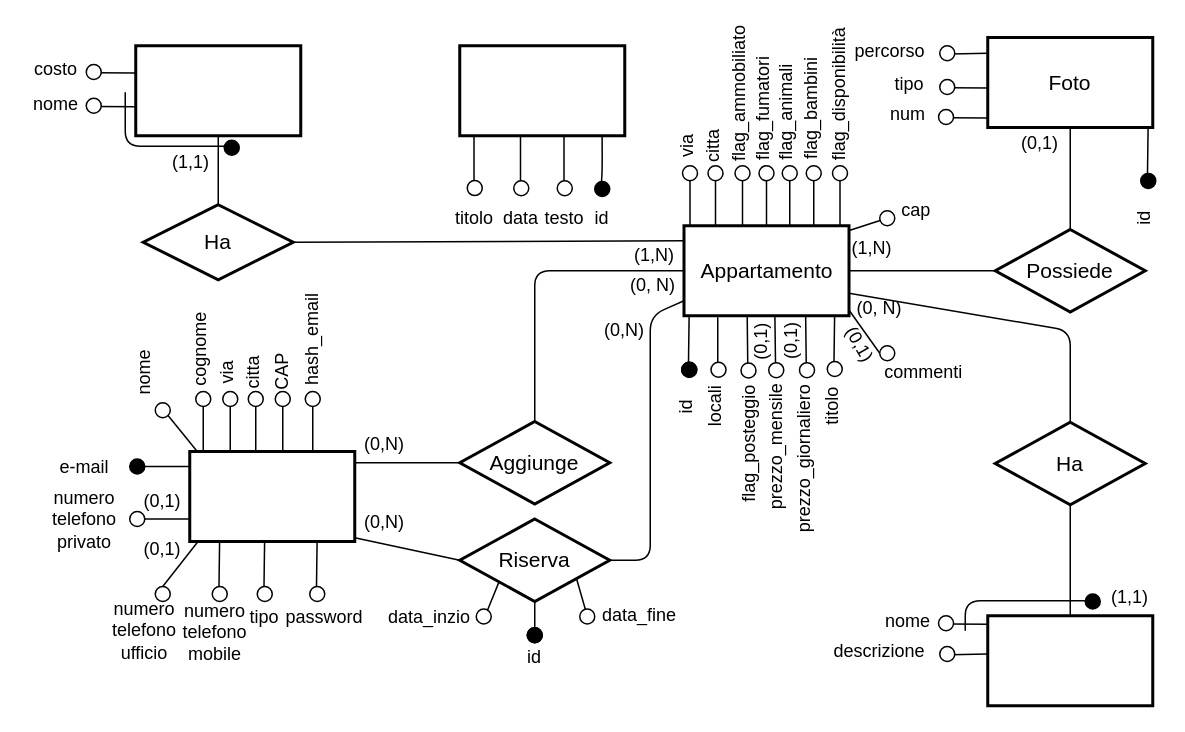
The diagram is 1185 pixels wide and 732 high, and some of its shapes have lost their labels. The shapes that lost their labels are listed below. From the top down, each one's centre as x and y in pixels, then its label:
At point (218, 90): "Spesa".
At point (542, 90): "Notizia".
At point (272, 495): "Utente".
At point (1070, 660): "Accessorio".
